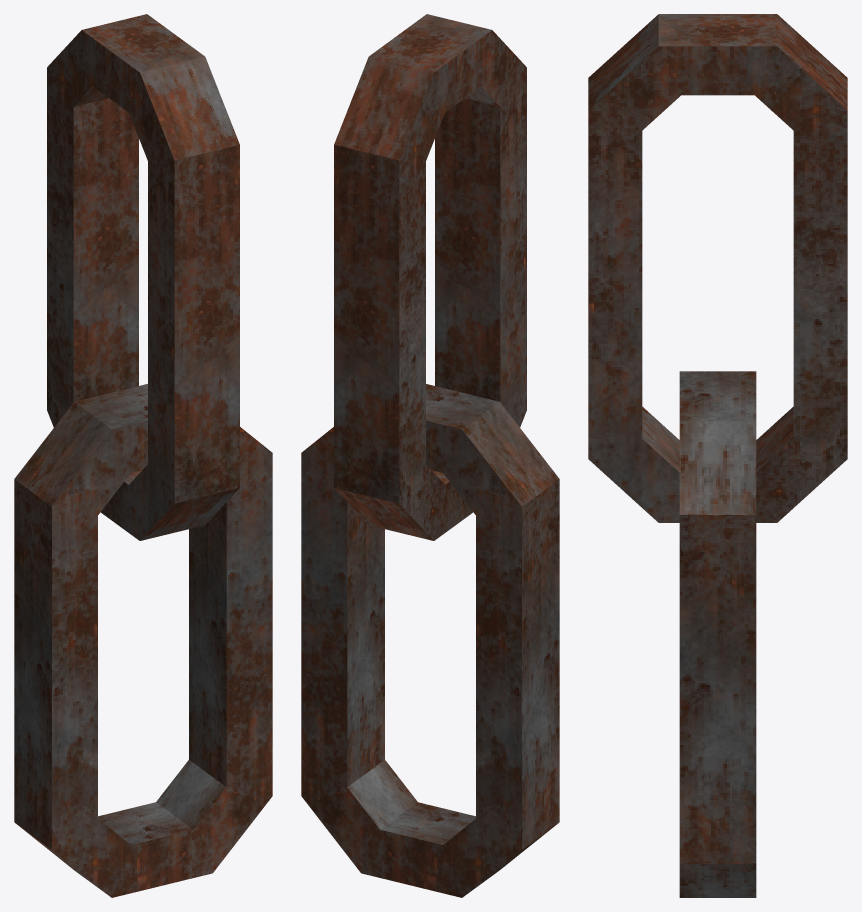
The model's file is chain.glb.
The picture shows the model from 3 angles, left to right: view 1: azimuth 30°, elevation 25°; view 2: azimuth 150°, elevation 25°; view 3: azimuth 270°, elevation 25°; orthographic projection.
Parts seen in each view (by area): view 1: Cube.001; view 2: Cube.001; view 3: Cube.001.
Boxes of the visible parts, x1=… form: Cube.001: x1=14, y1=14, x2=272, y2=897; Cube.001: x1=301, y1=14, x2=559, y2=897; Cube.001: x1=588, y1=14, x2=847, y2=897.
Bounding box in the file's own units: 2 × 7.17 × 2.
1 material, 1 textured.
